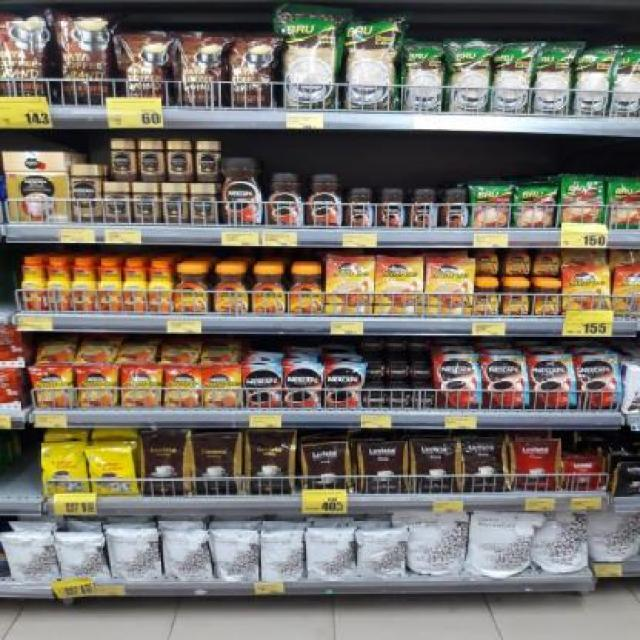Coffee: (219, 158, 261, 225), (329, 256, 373, 316), (377, 256, 421, 315), (427, 257, 471, 314), (533, 355, 576, 409), (562, 267, 610, 315), (439, 355, 480, 411), (579, 356, 621, 410), (486, 355, 528, 408), (267, 173, 305, 227), (307, 174, 343, 226), (71, 166, 103, 222), (176, 264, 210, 315), (213, 264, 247, 314), (33, 367, 73, 409), (287, 265, 321, 314), (79, 367, 117, 408), (254, 264, 284, 315), (246, 368, 284, 408), (327, 367, 361, 409), (205, 368, 239, 410), (125, 367, 159, 409), (286, 367, 319, 408), (147, 257, 171, 313), (166, 368, 200, 407), (21, 255, 44, 311), (47, 256, 68, 313), (102, 181, 130, 223), (100, 257, 120, 315), (409, 189, 438, 228), (74, 255, 94, 311), (110, 138, 136, 180), (442, 189, 470, 228), (192, 182, 218, 223), (348, 188, 375, 227), (167, 139, 191, 182), (164, 182, 188, 224), (125, 257, 143, 313), (532, 280, 560, 316), (380, 189, 406, 227), (135, 181, 158, 223), (502, 280, 530, 314), (139, 139, 161, 182), (197, 140, 218, 182), (476, 280, 500, 316), (504, 250, 531, 276), (534, 249, 558, 277), (475, 248, 497, 275), (389, 386, 412, 409), (388, 360, 410, 381), (412, 358, 433, 380), (366, 385, 386, 407), (367, 359, 385, 381), (416, 386, 434, 407)
